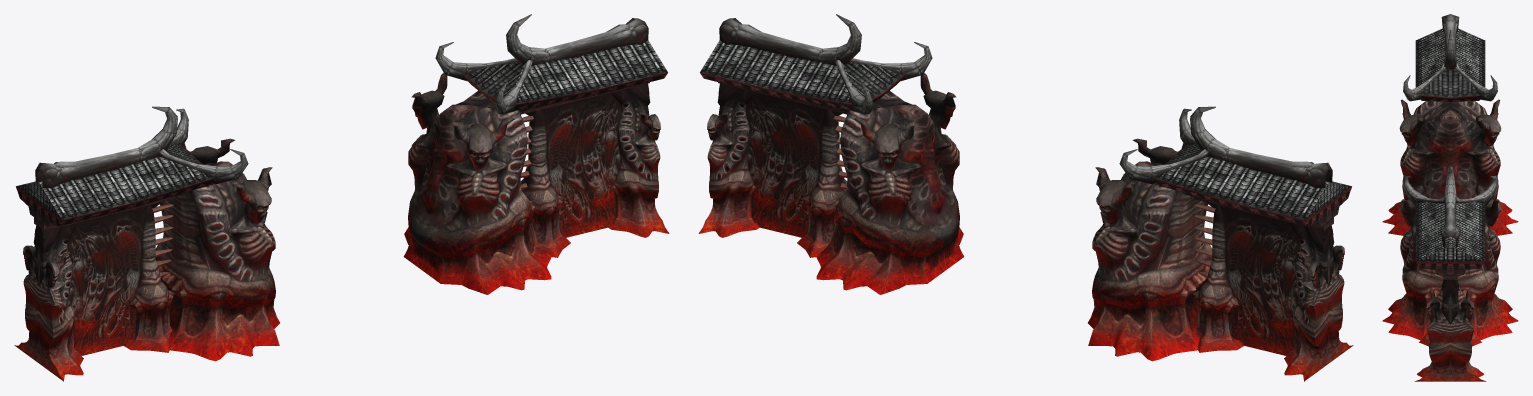
Rendered from otherworld_door_02.fbx.
The picture shows the model from 3 angles, left to right: view 1: azimuth 30°, elevation 25°; view 2: azimuth 150°, elevation 25°; view 3: azimuth 270°, elevation 25°; orthographic projection. The views are drawn at different scales.
Parts seen in each view (by area): view 1: otherworld_door_02; view 2: otherworld_door_02; view 3: otherworld_door_02.
Part boxes in pixels (x1,y1,x2,y2): otherworld_door_02: (14,14,669,381); otherworld_door_02: (698,14,1353,381); otherworld_door_02: (1382,14,1518,381).
Size of the model in its own units: 28 by 10.14 by 7.28.
